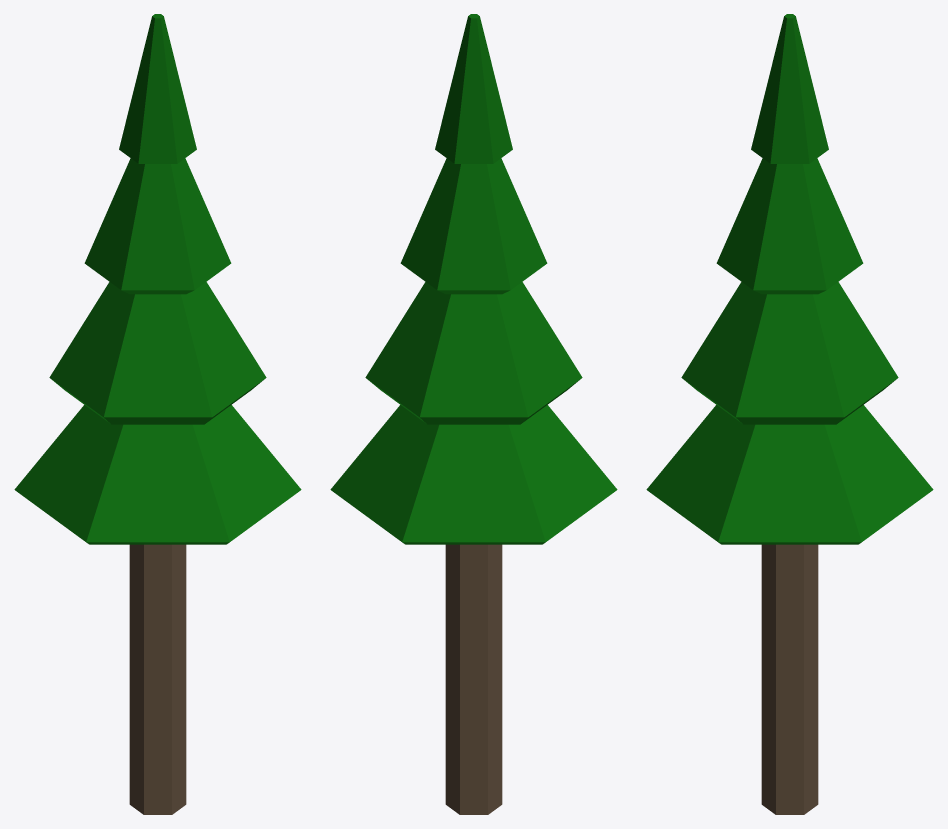
File: Tree_1.fbx
The picture shows the model from 3 angles, left to right: view 1: azimuth 30°, elevation 25°; view 2: azimuth 150°, elevation 25°; view 3: azimuth 270°, elevation 25°; orthographic projection.
Parts seen in each view (by area): view 1: Tree; view 2: Tree; view 3: Tree.
Boxes of the visible parts, left/top/right/bottom form: Tree: left=14, top=14, right=301, bottom=814; Tree: left=330, top=14, right=617, bottom=814; Tree: left=646, top=14, right=933, bottom=814.
Size of the model in its own units: 172 by 600 by 198.
